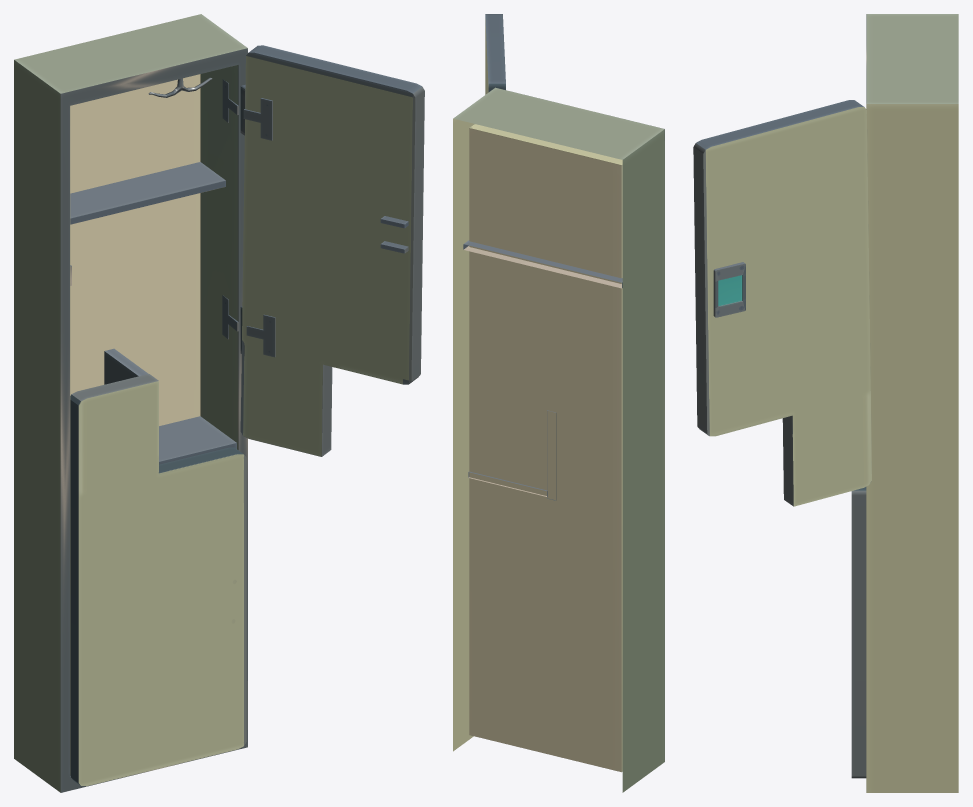
File: LockersV2.fbx
3 views of the same model, side by side, from view 1: azimuth 30°, elevation 25°; view 2: azimuth 150°, elevation 25°; view 3: azimuth 270°, elevation 25° (orthographic). The views are drawn at different scales.
Visible parts, largest first — view 1: polySurface58, polySurface65, polySurface45, polySurface59, polySurface61, polySurface60; view 2: polySurface58, polySurface59, polySurface65; view 3: polySurface58, polySurface65, polySurface45.
Boxes of the visible parts, left/top/right/bottom form: polySurface58: left=14, top=14, right=247, bottom=792; polySurface65: left=240, top=45, right=424, bottom=456; polySurface45: left=70, top=374, right=246, bottom=786; polySurface59: left=70, top=162, right=225, bottom=224; polySurface61: left=159, top=416, right=236, bottom=464; polySurface60: left=104, top=348, right=148, bottom=384; polySurface58: left=453, top=87, right=664, bottom=792; polySurface59: left=463, top=240, right=622, bottom=288; polySurface65: left=485, top=14, right=505, bottom=94; polySurface58: left=866, top=14, right=958, bottom=792; polySurface65: left=693, top=100, right=871, bottom=506; polySurface45: left=851, top=487, right=866, bottom=778.
Bounding box in the file's own units: 0.7422 × 1.77 × 0.6149.
1 material, 1 textured.
